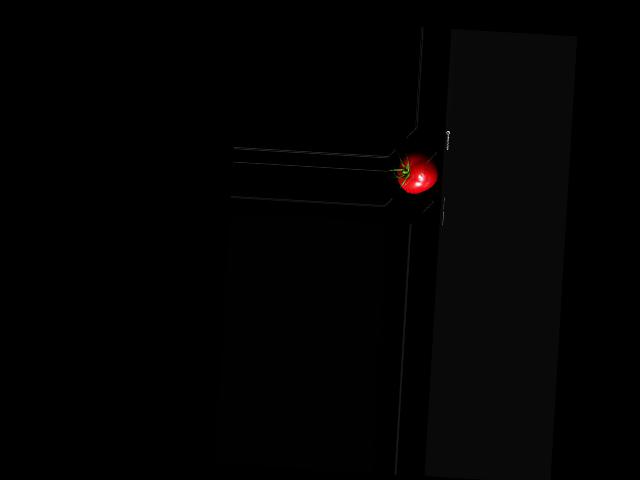tomato: (396, 150, 439, 195)
